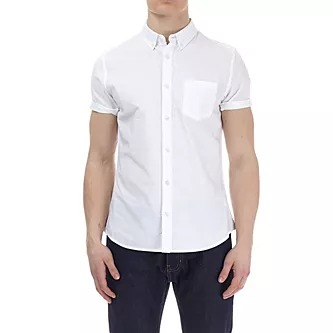C_shirt: (82, 22, 256, 262)
